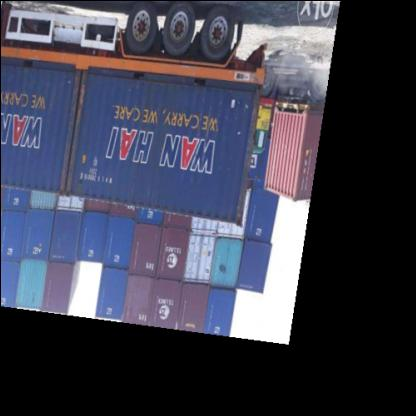Damage: (225, 85, 263, 229), (52, 70, 92, 198)
